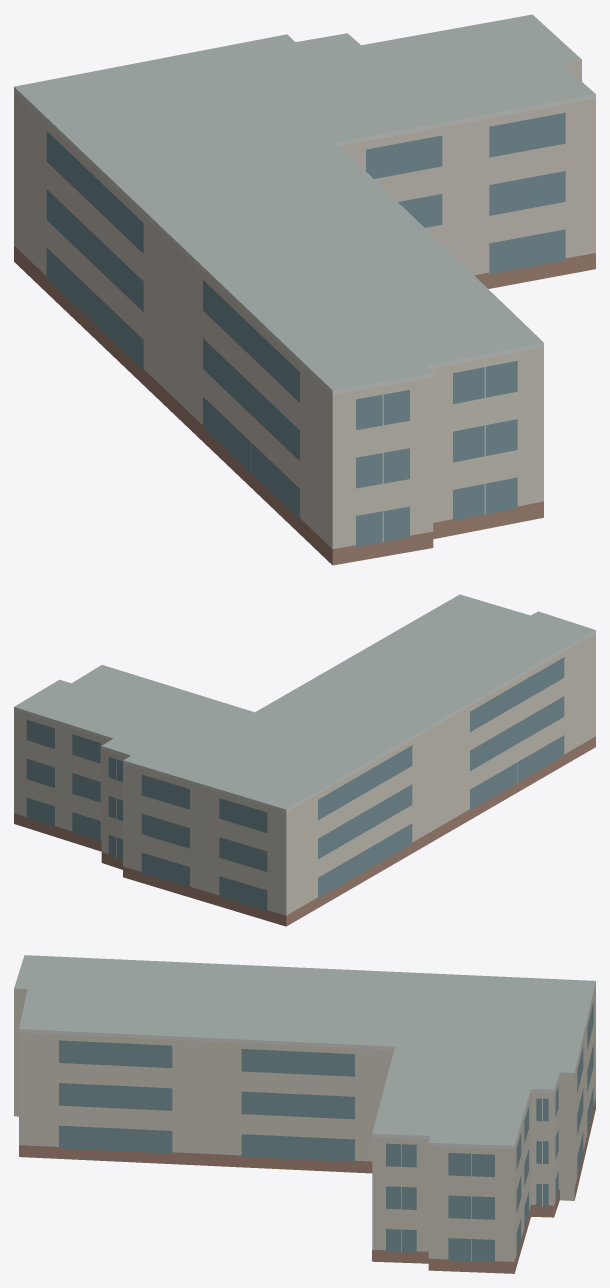
Rendered from survey-upis-32912047.glb.
3 renders of one model, top to bottom at view 1: azimuth 30°, elevation 25°; view 2: azimuth 150°, elevation 25°; view 3: azimuth 270°, elevation 25°, orthographic. The views are drawn at different scales.
Visible parts, largest first — view 1: survey-upis-32912047.tmp; view 2: survey-upis-32912047.tmp; view 3: survey-upis-32912047.tmp.
Boxes of the visible parts, box(x1,y1,x2,y2) form: survey-upis-32912047.tmp: box(14, 14, 595, 565); survey-upis-32912047.tmp: box(14, 594, 595, 926); survey-upis-32912047.tmp: box(14, 955, 595, 1273).
Bounding box in the file's own units: 29.28 × 9.15 × 37.73.
